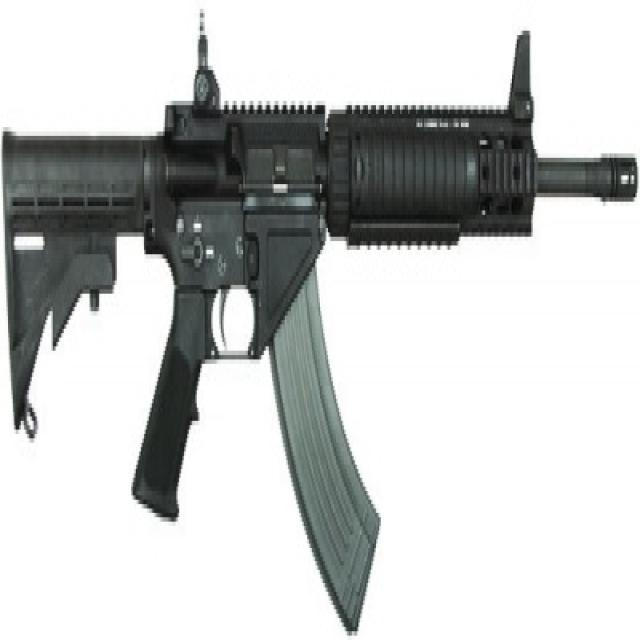rifle: (2, 1, 640, 640)
